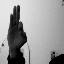f: (6, 4, 29, 49)
